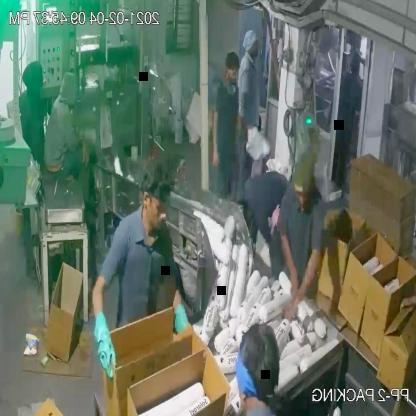glove: (91, 292, 121, 393), (165, 270, 192, 342)
no_glove: (288, 240, 322, 321), (278, 228, 298, 304), (211, 99, 225, 180), (75, 136, 92, 178)
